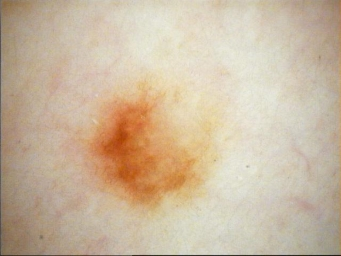seborrheic keratosis: (89, 80, 211, 207)
